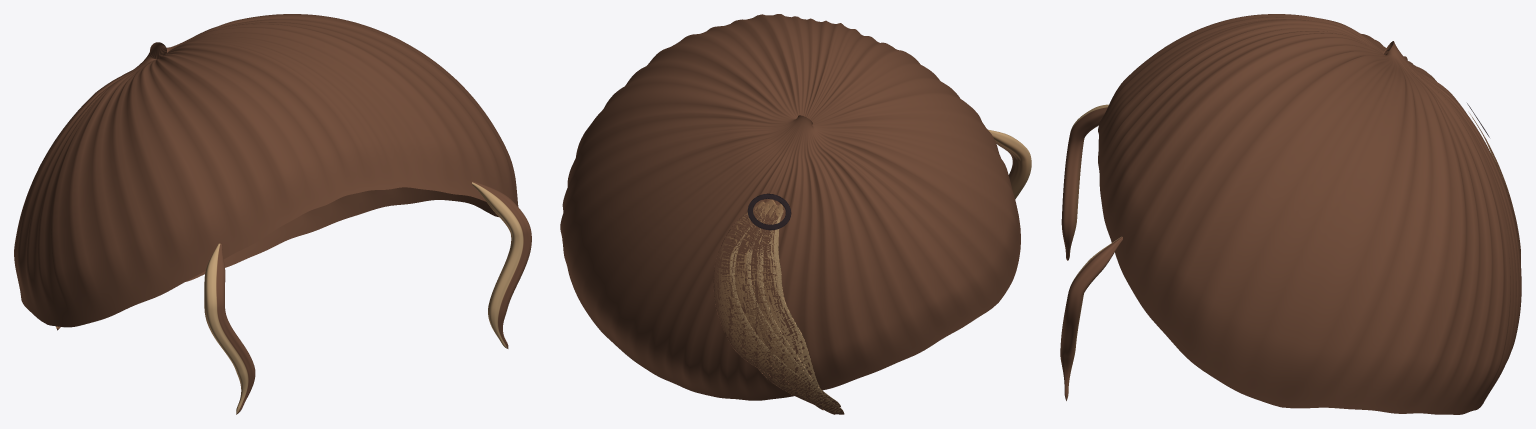
The model's file is Ombre-e7682a1e78ab253-hair.glb.
3 views of the same model, side by side, from view 1: azimuth 30°, elevation 25°; view 2: azimuth 150°, elevation 25°; view 3: azimuth 270°, elevation 25° (orthographic). The views are drawn at different scales.
Visible parts, largest first — view 1: 226 hair / Hair / crisp pulled roots220, 226 hair / Hair / sculpted front locks222; view 2: 226 hair / Hair / crisp pulled roots220, 226 hair / Hair / chestnut212 0, 226 hair / Hair / chestnut212 1, 226 hair / Hair / chestnut212 2, 226 hair / Hair / sculpted front locks222, 226 hair / Hair / fitted tie214; view 3: 226 hair / Hair / crisp pulled roots220, 226 hair / Hair / sculpted front locks222.
Part boxes in pixels (x1,y1,x2,y2): 226 hair / Hair / crisp pulled roots220: [14, 14, 518, 327]; 226 hair / Hair / sculpted front locks222: [204, 181, 531, 414]; 226 hair / Hair / crisp pulled roots220: [560, 14, 1020, 400]; 226 hair / Hair / chestnut212 0: [713, 201, 835, 414]; 226 hair / Hair / chestnut212 1: [724, 202, 840, 410]; 226 hair / Hair / chestnut212 2: [730, 199, 844, 414]; 226 hair / Hair / sculpted front locks222: [988, 129, 1031, 199]; 226 hair / Hair / fitted tie214: [747, 193, 791, 230]; 226 hair / Hair / crisp pulled roots220: [1098, 14, 1521, 414]; 226 hair / Hair / sculpted front locks222: [1060, 104, 1122, 400].
Bounding box in the file's own units: 0.9675 × 0.6669 × 0.8068.
Materials: 6 (5 with a texture image).
